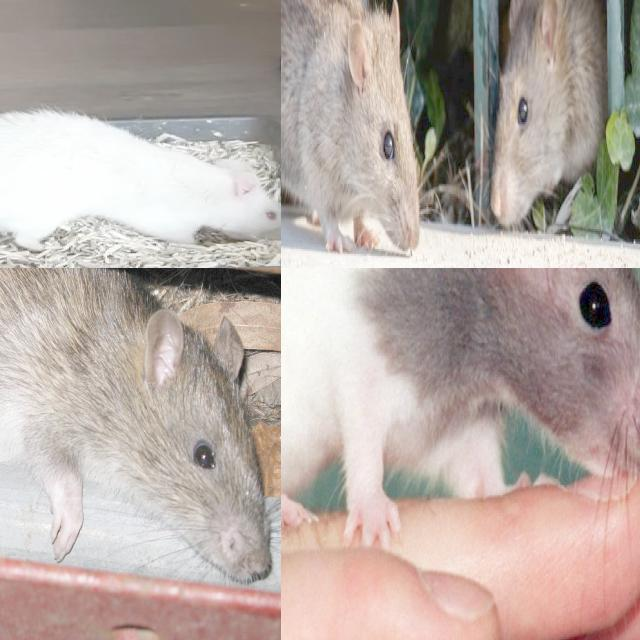rat: (281, 268, 640, 540), (0, 268, 274, 581), (0, 106, 281, 255), (281, 0, 422, 246), (491, 0, 601, 230)
